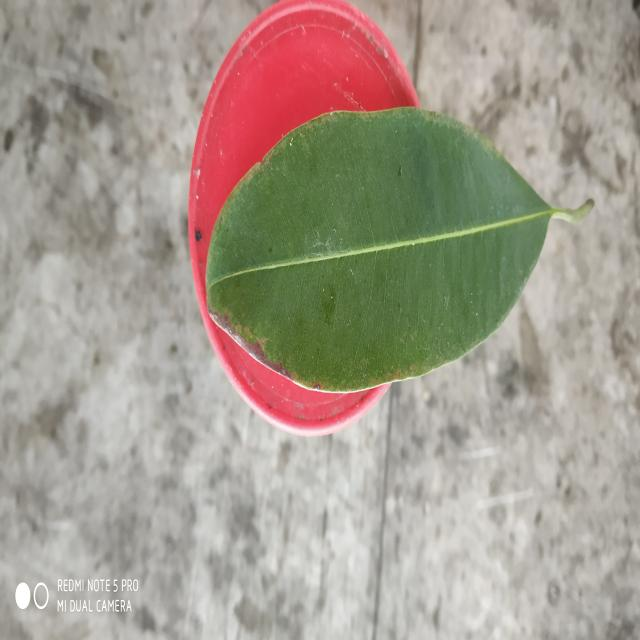fasiation: (206, 109, 561, 391)
